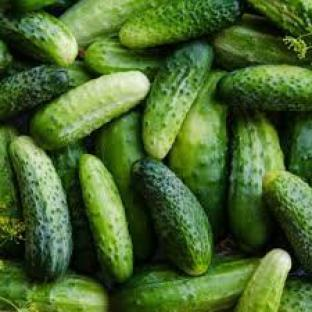Cucumber: (170, 71, 227, 239), (132, 159, 213, 275), (31, 71, 149, 149), (10, 136, 72, 280), (98, 111, 155, 260), (143, 42, 213, 159), (228, 111, 284, 252), (111, 260, 259, 311), (80, 154, 133, 282), (50, 141, 97, 273), (213, 14, 310, 70), (0, 261, 108, 311), (264, 171, 311, 273), (0, 66, 88, 119), (0, 12, 77, 66), (218, 66, 311, 110), (235, 250, 291, 311), (0, 125, 24, 255), (85, 37, 163, 76), (288, 114, 311, 180), (279, 278, 311, 311), (0, 55, 40, 79), (0, 41, 12, 73)
